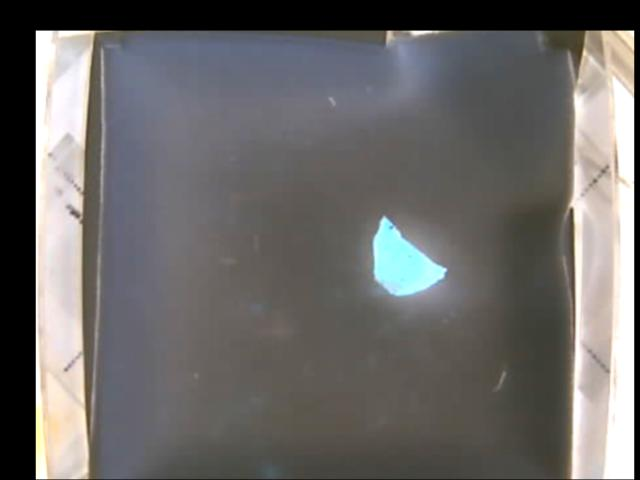Brisk: (372, 214, 447, 297)
